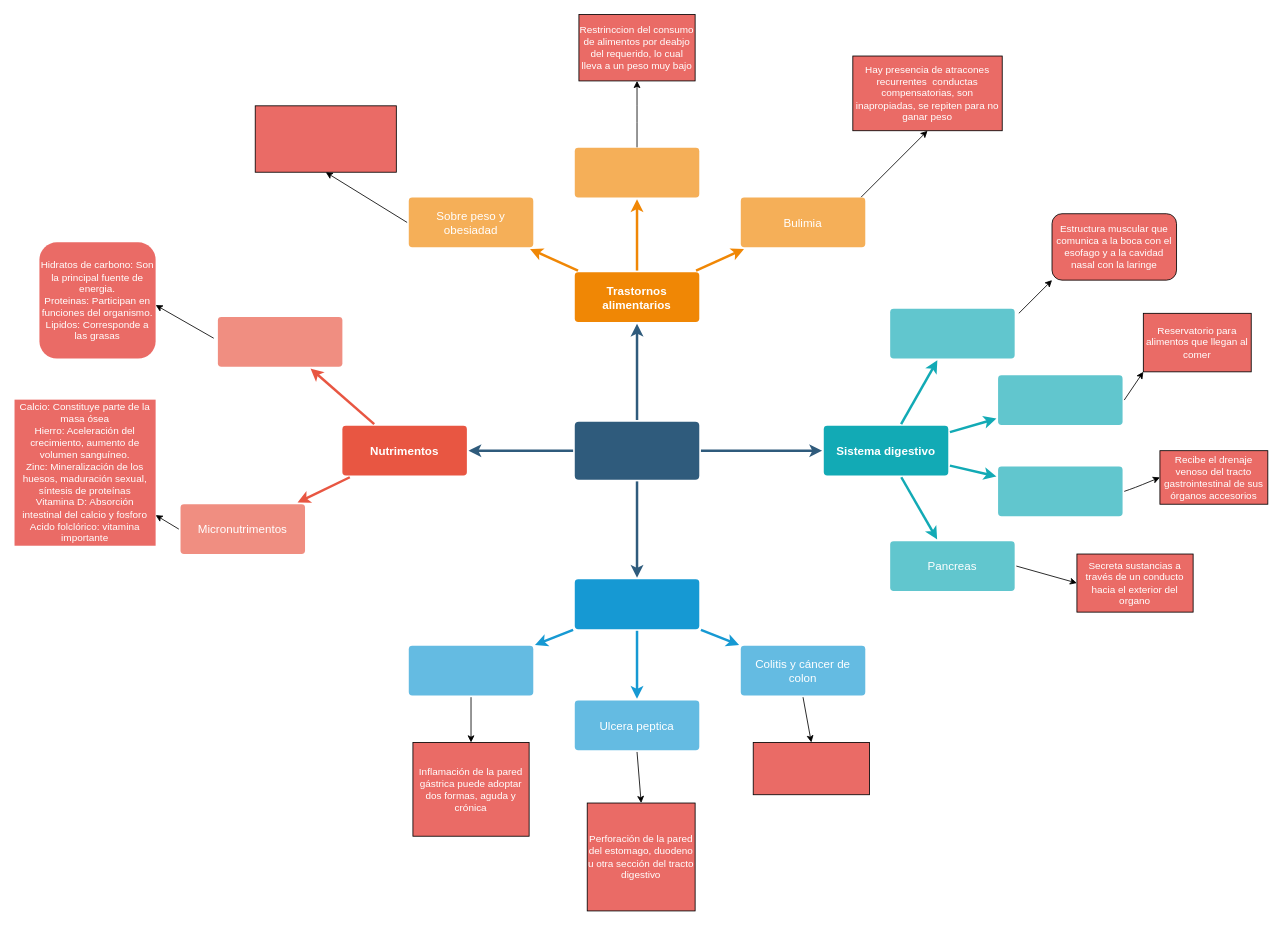
Image size: 1282x925. Some labels were removed from this diagram. The box of each missing label's shape, as (x1, y1, x2, y2) in pixels:
Anorexia nerviosa: (574, 147, 699, 197)
Enfermedades: (574, 579, 699, 629)
Estomago: (998, 375, 1122, 425)
Faringe: (890, 308, 1014, 358)
Gatritis: (408, 645, 533, 695)
Higado: (998, 466, 1122, 516)
Inflamación del intestino grueso y sus causas son muy variadas: (752, 742, 869, 795)
Macronutrimentos: (217, 317, 342, 366)
Nutricion: (574, 421, 699, 479)
Reflejan un desequilibrio entre las calorías que se consumen y las que se gastan: (254, 105, 396, 172)
